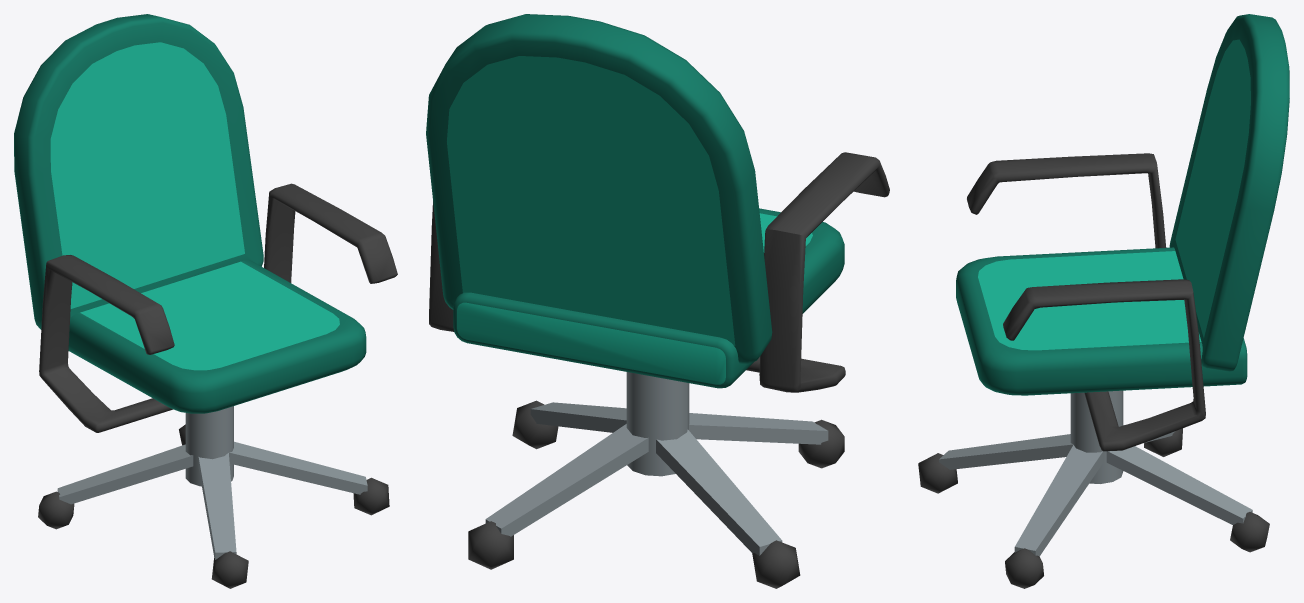
The model's file is Chair-2.fbx.
3 renders of one model, left to right at view 1: azimuth 30°, elevation 25°; view 2: azimuth 150°, elevation 25°; view 3: azimuth 270°, elevation 25°, orthographic. The views are drawn at different scales.
Visible parts, largest first — view 1: Chair-2; view 2: Chair-2; view 3: Chair-2.
Boxes of the visible parts, x1,y1,x2,y2 form: Chair-2: [14, 14, 397, 588]; Chair-2: [426, 14, 889, 588]; Chair-2: [918, 14, 1289, 588].
Size of the model in its own units: 0.6508 by 0.9683 by 0.6764.
